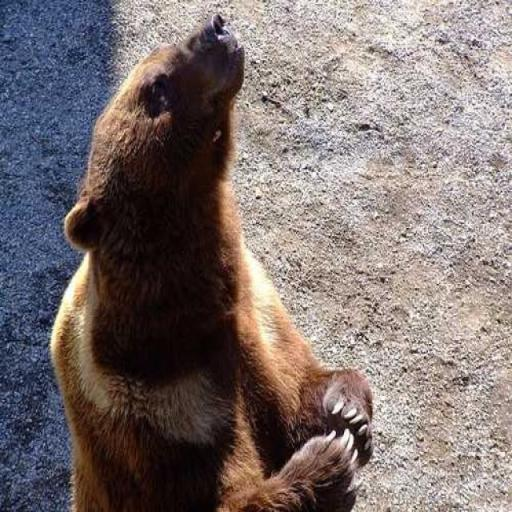Bear: (48, 12, 374, 511)
